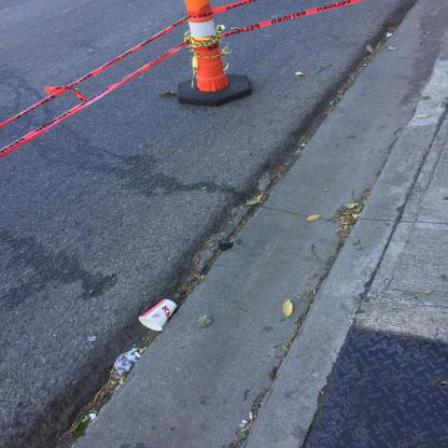Bottle cap: (89, 337, 98, 342)
Cigarette: (135, 352, 142, 360)
Cup: (139, 299, 178, 332)
Paper: (114, 348, 140, 380)
